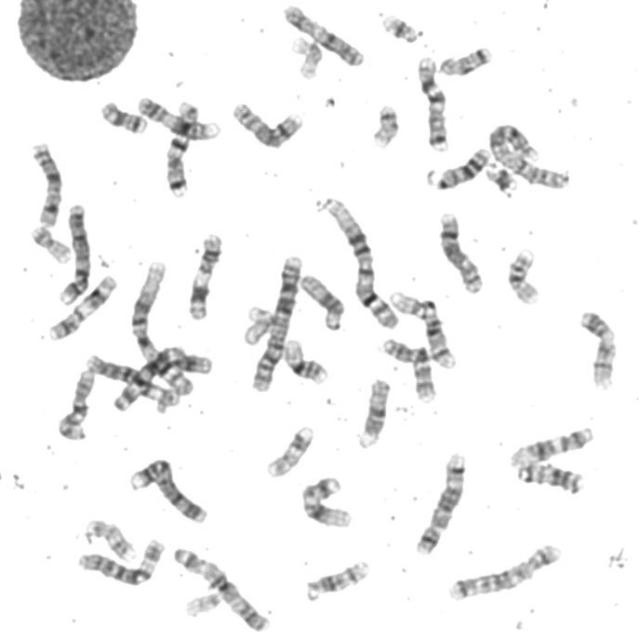A1: (321, 193, 403, 330), (127, 256, 197, 398)
A2: (246, 248, 304, 392), (484, 118, 572, 191)
A3: (169, 542, 273, 634), (108, 344, 215, 414)
B4: (126, 453, 210, 525), (53, 197, 93, 306)
B5: (444, 538, 564, 603), (411, 446, 470, 556)
C10: (378, 332, 439, 403), (53, 362, 98, 442)
C11: (44, 268, 120, 343), (183, 228, 226, 321)
C12: (505, 421, 597, 468), (298, 471, 355, 529)
C6: (83, 350, 181, 406), (72, 532, 168, 588)
C7: (161, 94, 202, 198), (413, 51, 452, 152)
C8: (434, 206, 488, 294), (227, 96, 307, 150)
C9: (133, 90, 222, 141), (576, 304, 620, 391)
D13: (423, 140, 494, 191), (513, 459, 584, 497)
D14: (414, 299, 465, 375), (301, 554, 373, 602)
D15: (297, 268, 349, 332), (354, 372, 394, 449)
E16: (278, 332, 332, 386), (503, 243, 544, 306)
E17: (262, 420, 318, 479), (86, 519, 138, 562)
E18: (435, 40, 495, 77), (96, 95, 151, 135)
F19: (286, 30, 326, 81), (244, 307, 279, 346)
F20: (26, 220, 74, 264), (367, 98, 403, 149)
G21: (377, 7, 423, 44), (482, 158, 519, 197)
G22: (387, 286, 432, 322), (181, 587, 225, 619)
X: (278, 0, 368, 68), (26, 137, 65, 229)
